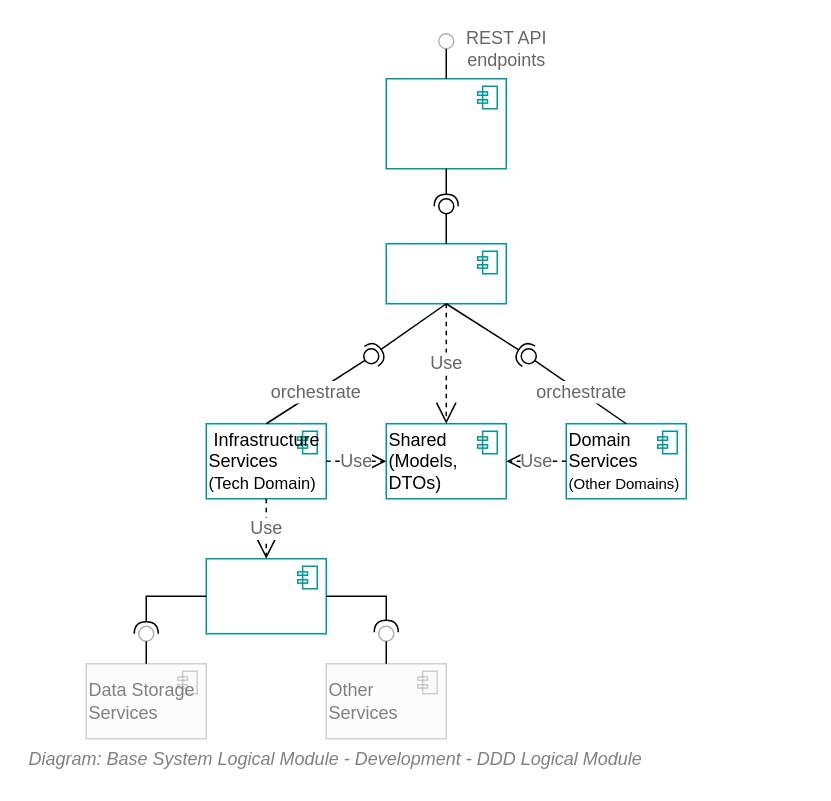
Image size: 831x801. Some labels were removed from this diagram. Each missing label, with the centre of its shape:
"Application Services" goes at pixel 445 273.
"Service Facade (Cross-Tier Protocol specific)" goes at pixel 445 123.
"Vendor Libs & 3rd party Service Clients" goes at pixel 265 595.
